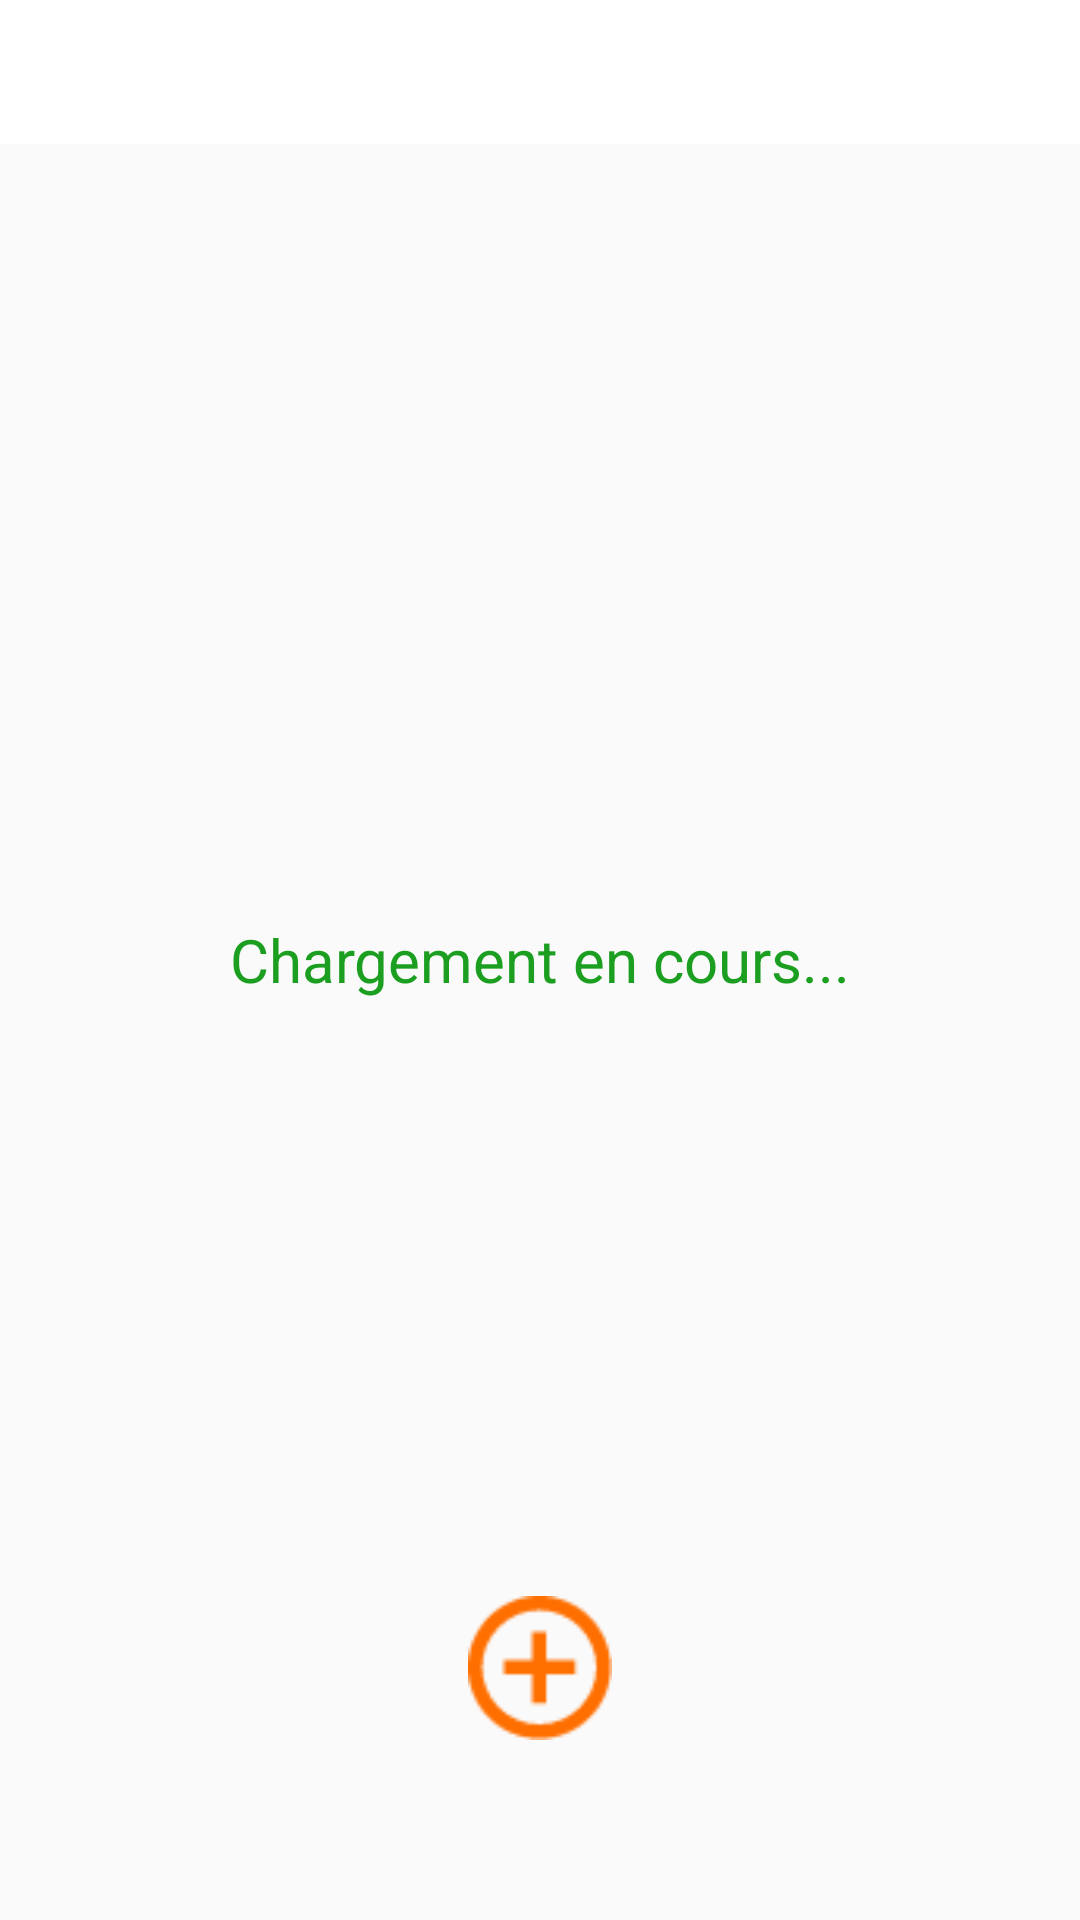

Named icons in this screenshot (1080w x 1920h) and their centers, (x=x, y=y):
add circle: (x=540, y=1668)
